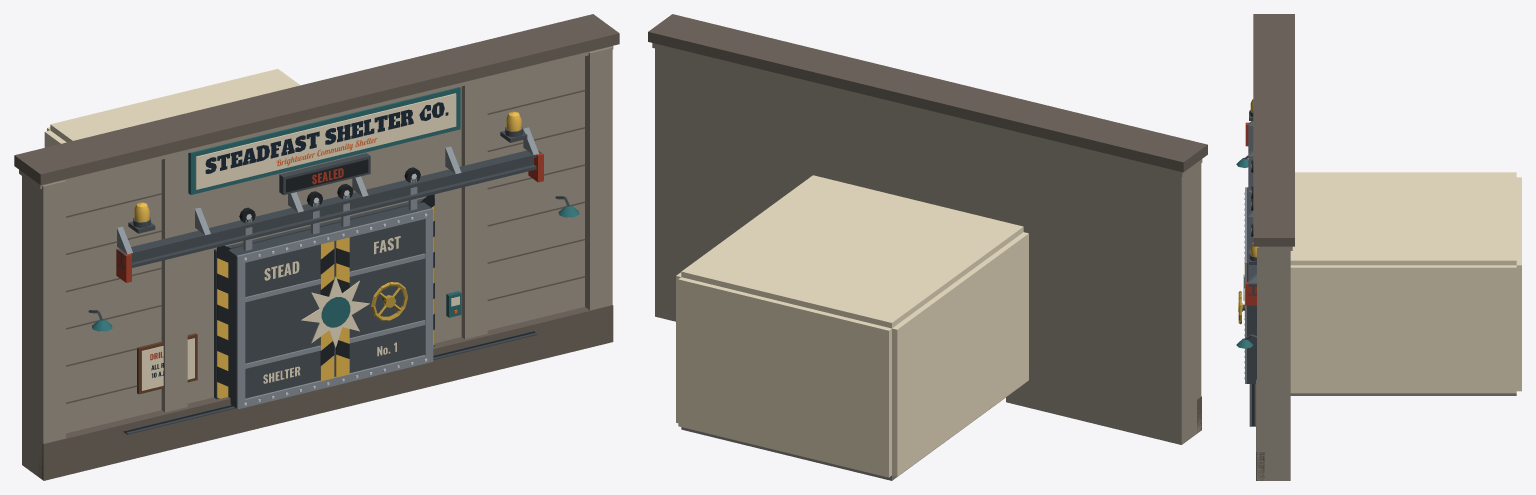
The model's file is Cutscene_BlastDoor.fbx.
The picture shows the model from 3 angles, left to right: view 1: azimuth 30°, elevation 25°; view 2: azimuth 150°, elevation 25°; view 3: azimuth 270°, elevation 25°; orthographic projection. The views are drawn at different scales.
Parts seen in each view (by area): view 1: Decor, LeafLeft, LeafRight, Wheel; view 2: Decor; view 3: Decor, LeafRight.
Part boxes in pixels (x1,y1,x2,y2): Decor: (14,14,619,480); LeafLeft: (228,191,336,409); LeafRight: (326,167,433,385); Wheel: (371,282,407,320); Decor: (648,14,1207,480); Decor: (1236,14,1521,480); LeafRight: (1242,198,1256,383).
Size of the model in its own units: 61 by 31.1 by 32.9.
